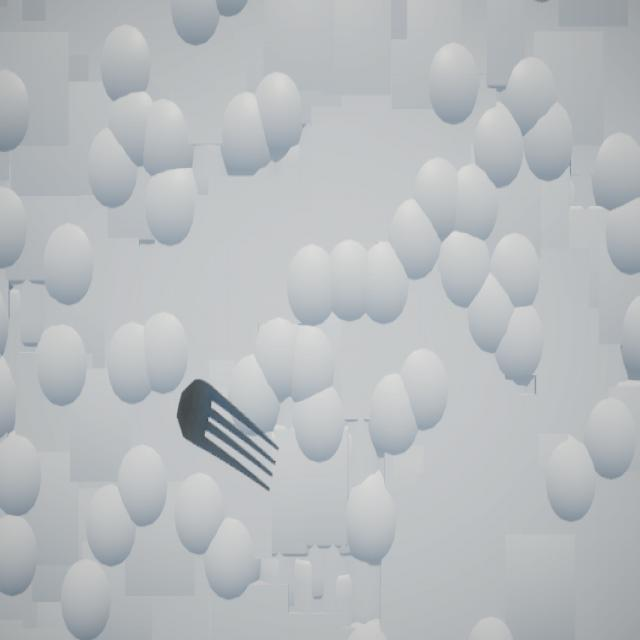top_folk: (177, 380, 280, 493)
